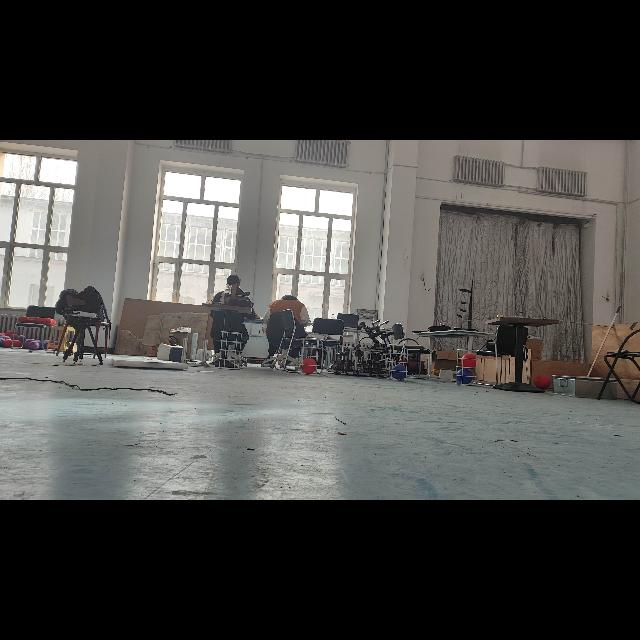B: (455, 369, 473, 383), (392, 364, 406, 378)
R: (460, 353, 478, 369), (301, 358, 317, 372)
S: (216, 329, 244, 371), (452, 347, 480, 387), (384, 342, 410, 382), (296, 336, 322, 376)
